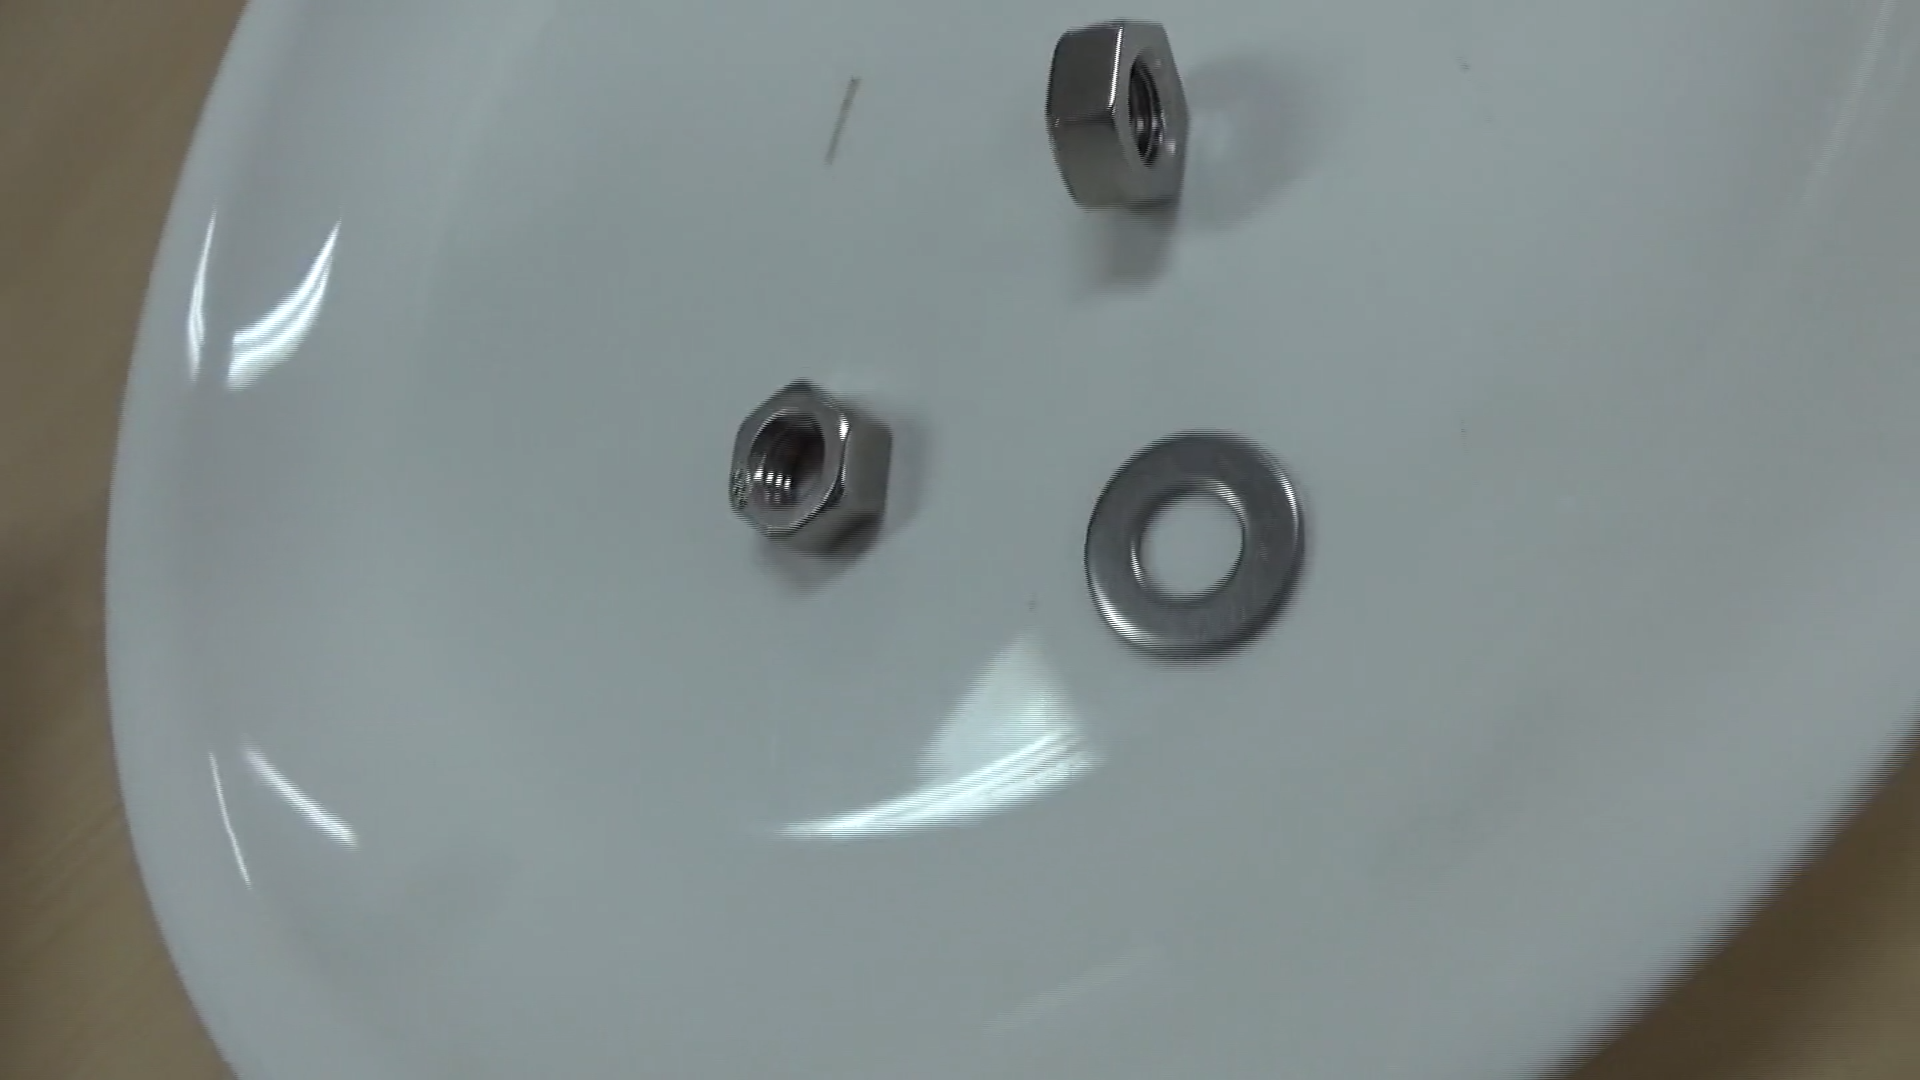nut: (1007, 9, 1234, 248), (707, 352, 916, 582)
washer: (1059, 400, 1329, 682)
